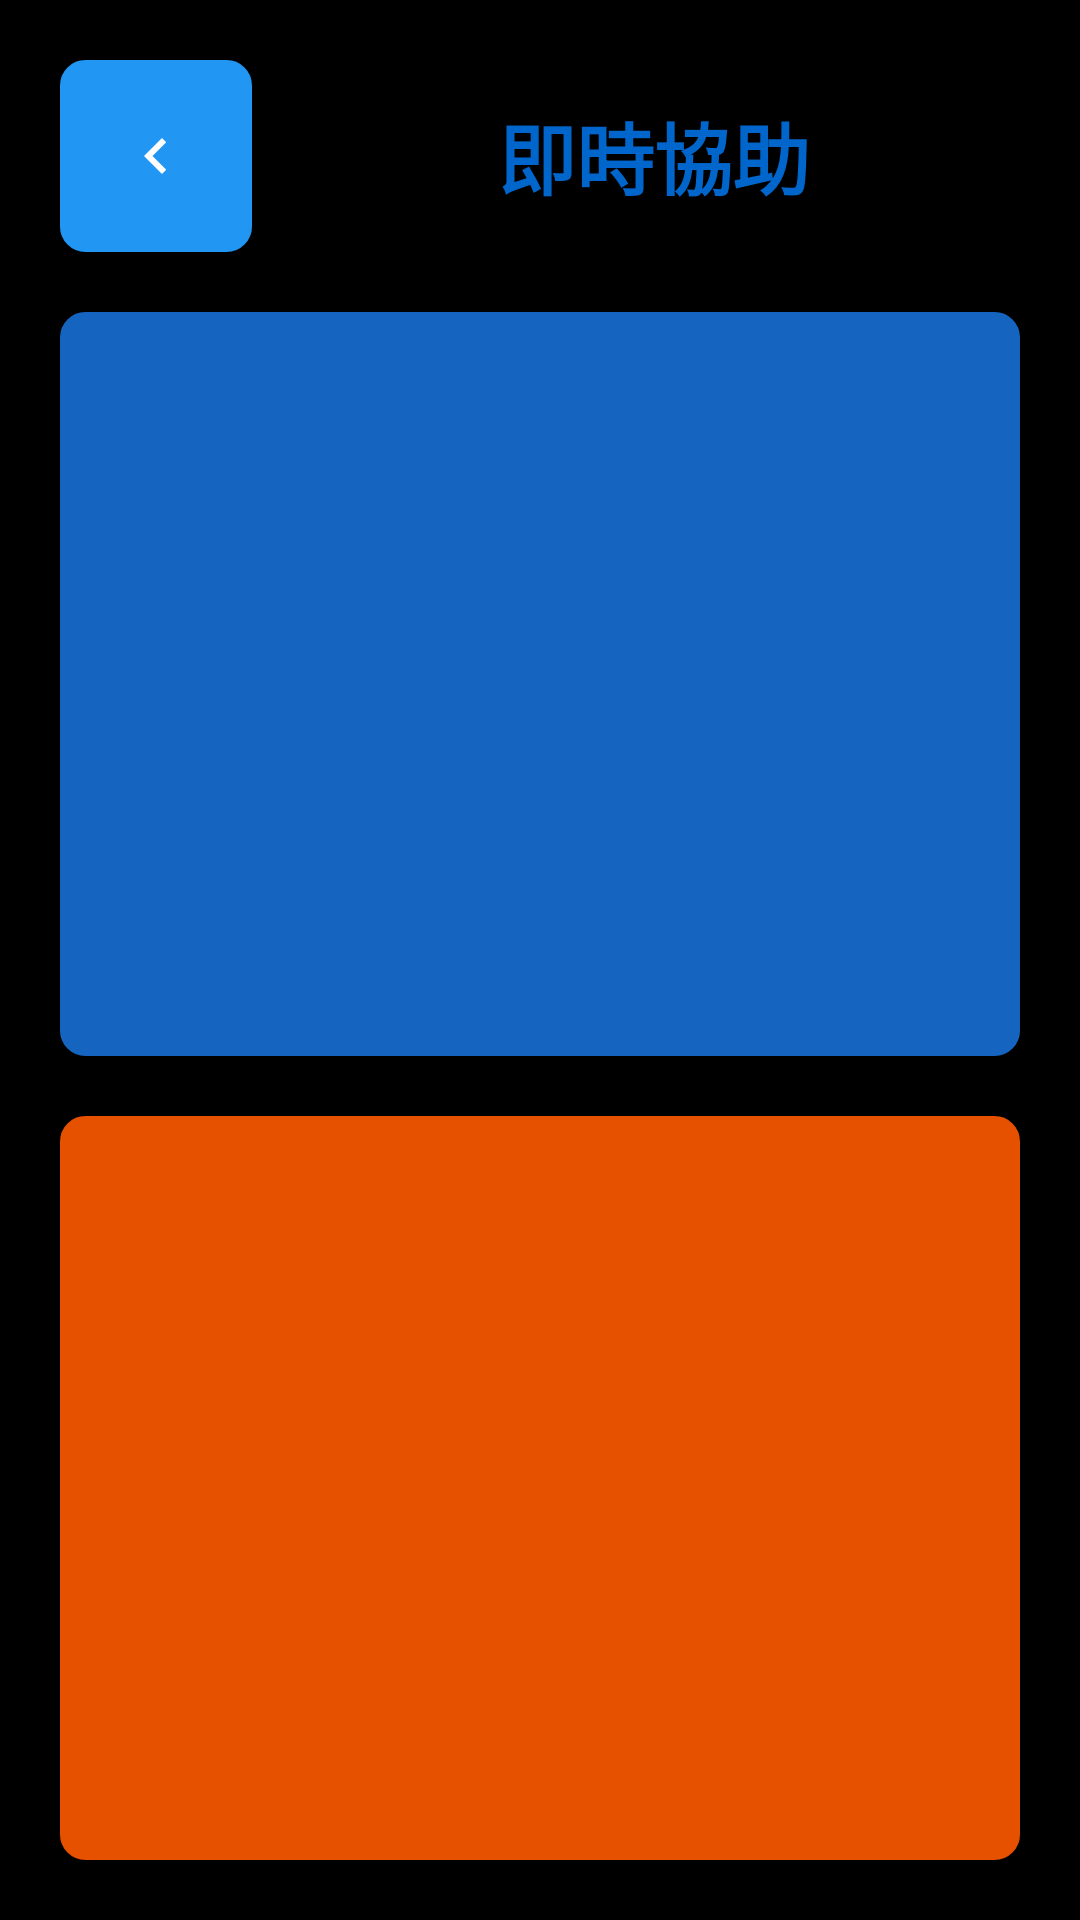

Named icons in this screenshot (1080*1920) and their centers, [x,y]:
Back Button: [156,156]
